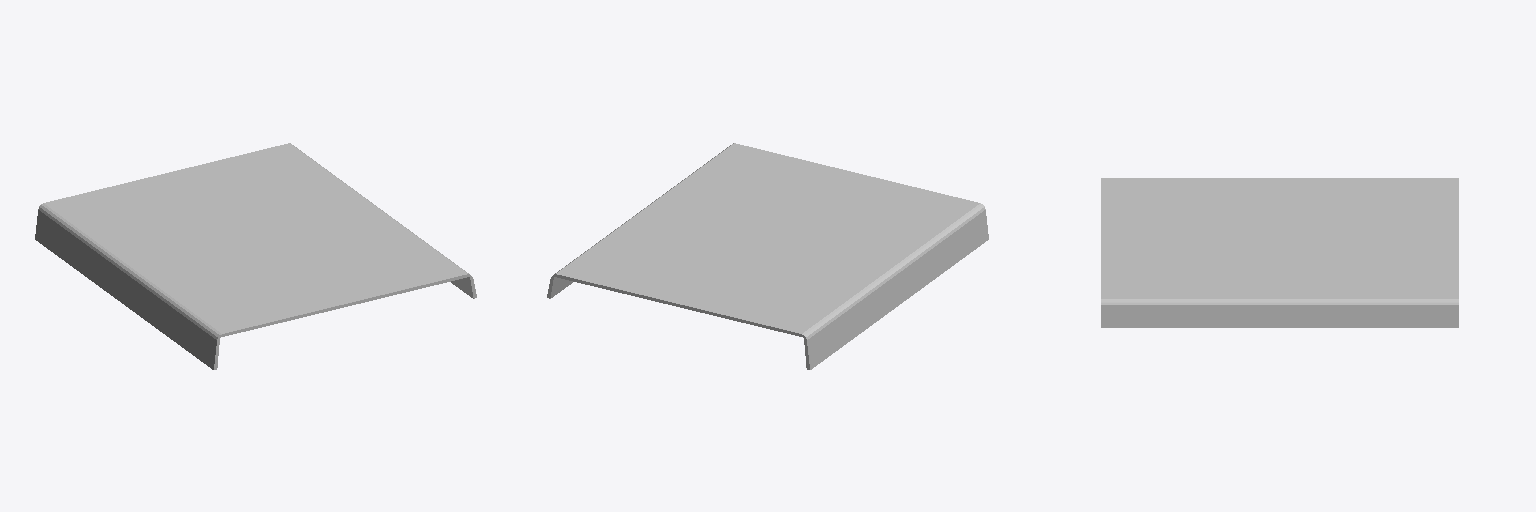
File: bed1.obj
3 renders of one model, left to right at view 1: azimuth 30°, elevation 25°; view 2: azimuth 150°, elevation 25°; view 3: azimuth 270°, elevation 25°, orthographic.
Visible parts, largest first — view 1: 平面; view 2: 平面; view 3: 平面.
Boxes of the visible parts, x1=… form: 平面: x1=35, y1=143, x2=476, y2=369; 平面: x1=547, y1=143, x2=988, y2=369; 平面: x1=1101, y1=178, x2=1458, y2=327.
Size of the model in its own units: 0.7211 by 0.0913 by 0.8486.